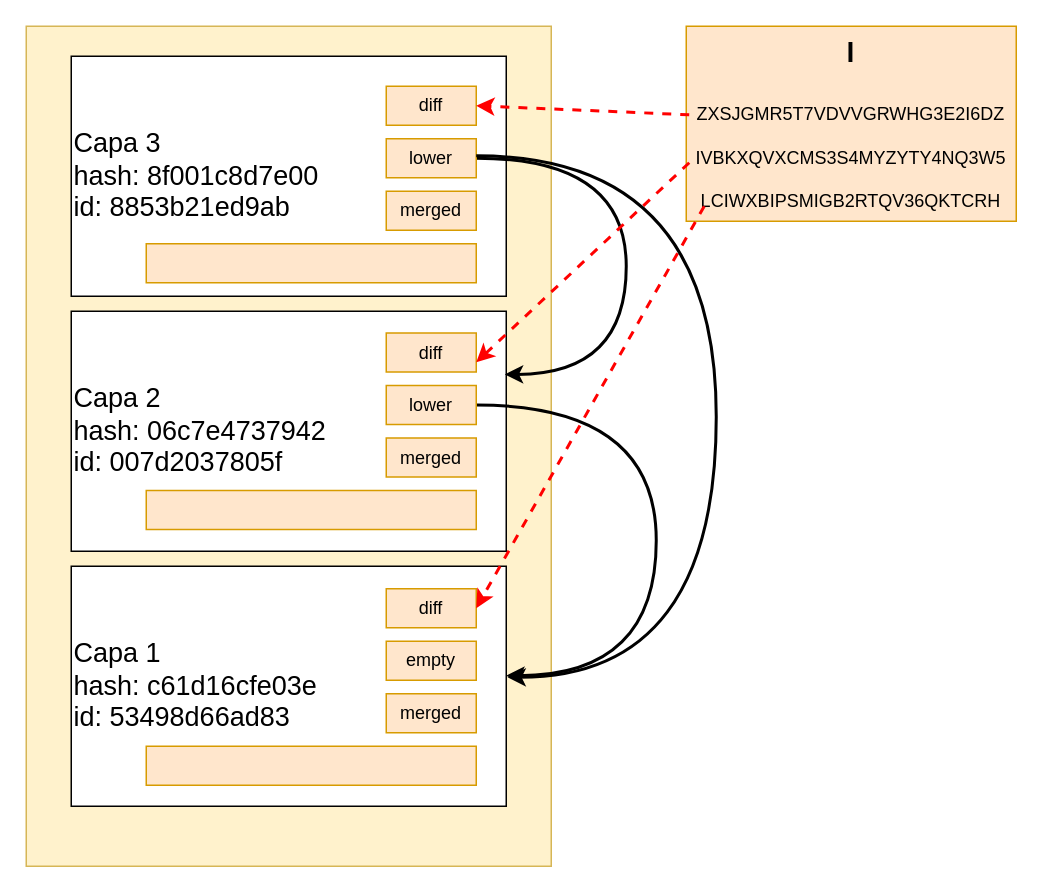
The diagram is 1043 pixels wide and 893 high, and some of its shapes have lost their labels. Here are the shapes that lost their labels. From the top down, the box of each, then its label:
(145, 242, 476, 283): link ZXSJGMR5T7VDVVGRWHG3E2I6DZ
(25, 25, 551, 866): quay.io/centos7/httpd-24-centos7:latest
(145, 489, 476, 530): link IVBKXQVXCMS3S4MYZYTY4NQ3W5
(145, 745, 476, 785): link LCIWXBIPSMIGB2RTQV36QKTCRH
